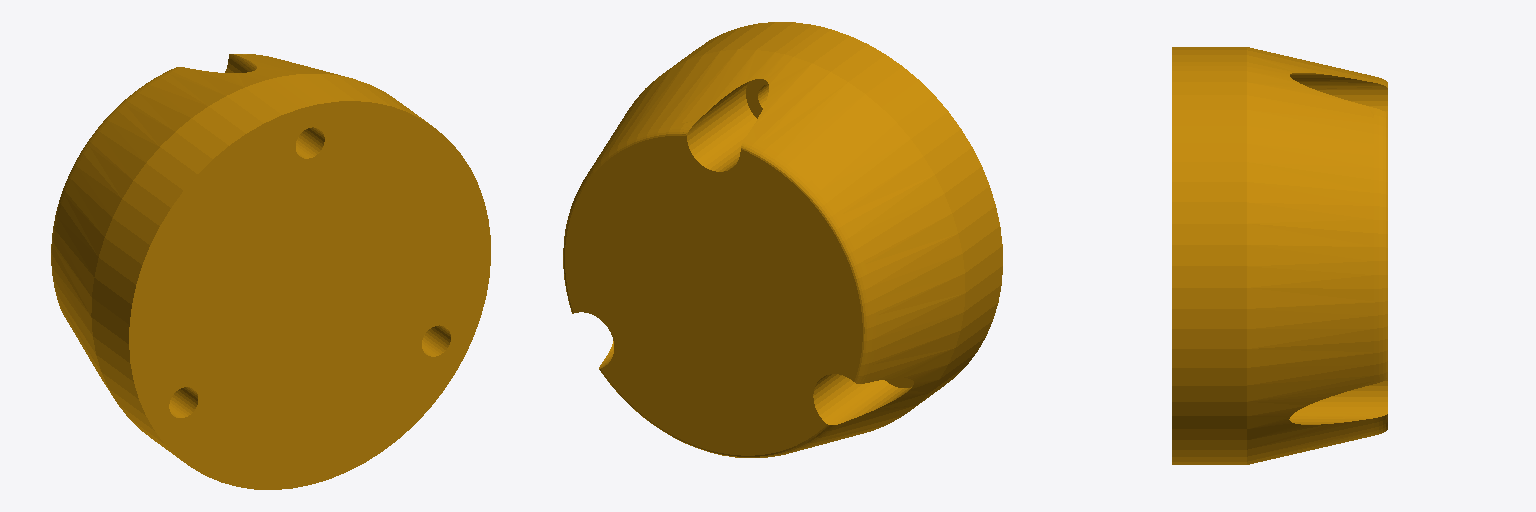
File: chwytakv2.obj
3 renders of one model, left to right at view 1: azimuth 30°, elevation 25°; view 2: azimuth 150°, elevation 25°; view 3: azimuth 270°, elevation 25°, orthographic.
Parts seen in each view (by area): view 1: Wrist_Cap_Small_Qty2_Wrist_Cap_Small_Qty2.001_Material.005; view 2: Wrist_Cap_Small_Qty2_Wrist_Cap_Small_Qty2.001_Material.005; view 3: Wrist_Cap_Small_Qty2_Wrist_Cap_Small_Qty2.001_Material.005.
Boxes of the visible parts, box(x1,y1,x2,y2) form: Wrist_Cap_Small_Qty2_Wrist_Cap_Small_Qty2.001_Material.005: box(51, 54, 490, 489); Wrist_Cap_Small_Qty2_Wrist_Cap_Small_Qty2.001_Material.005: box(563, 22, 1002, 457); Wrist_Cap_Small_Qty2_Wrist_Cap_Small_Qty2.001_Material.005: box(1172, 47, 1387, 464).
Bounding box in the file's own units: 0.2309 × 0.231 × 0.1196.